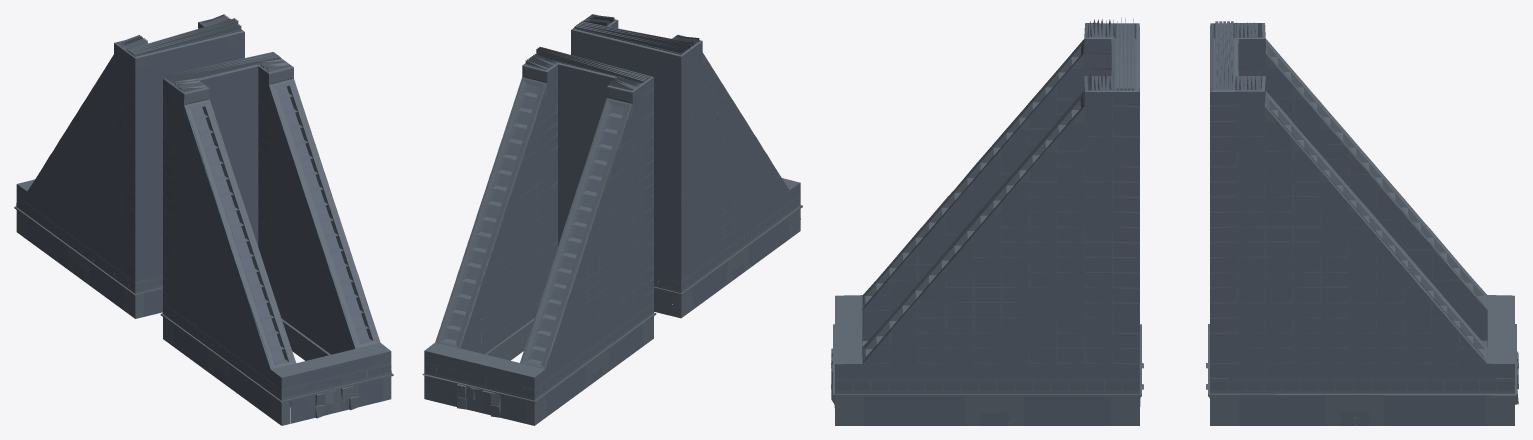
The model's file is building03-optimized.glb.
The picture shows the model from 3 angles, left to right: view 1: azimuth 30°, elevation 25°; view 2: azimuth 150°, elevation 25°; view 3: azimuth 270°, elevation 25°; orthographic projection. The views are drawn at different scales.
Parts seen in each view (by area): view 1: 01_Building03; view 2: 01_Building03; view 3: 01_Building03.
Part boxes in pixels (x1,y1,x2,y2): 01_Building03: (14, 14, 393, 425); 01_Building03: (422, 14, 802, 425); 01_Building03: (831, 17, 1518, 425).
Size of the model in its own units: 40.07 by 91 by 165.
